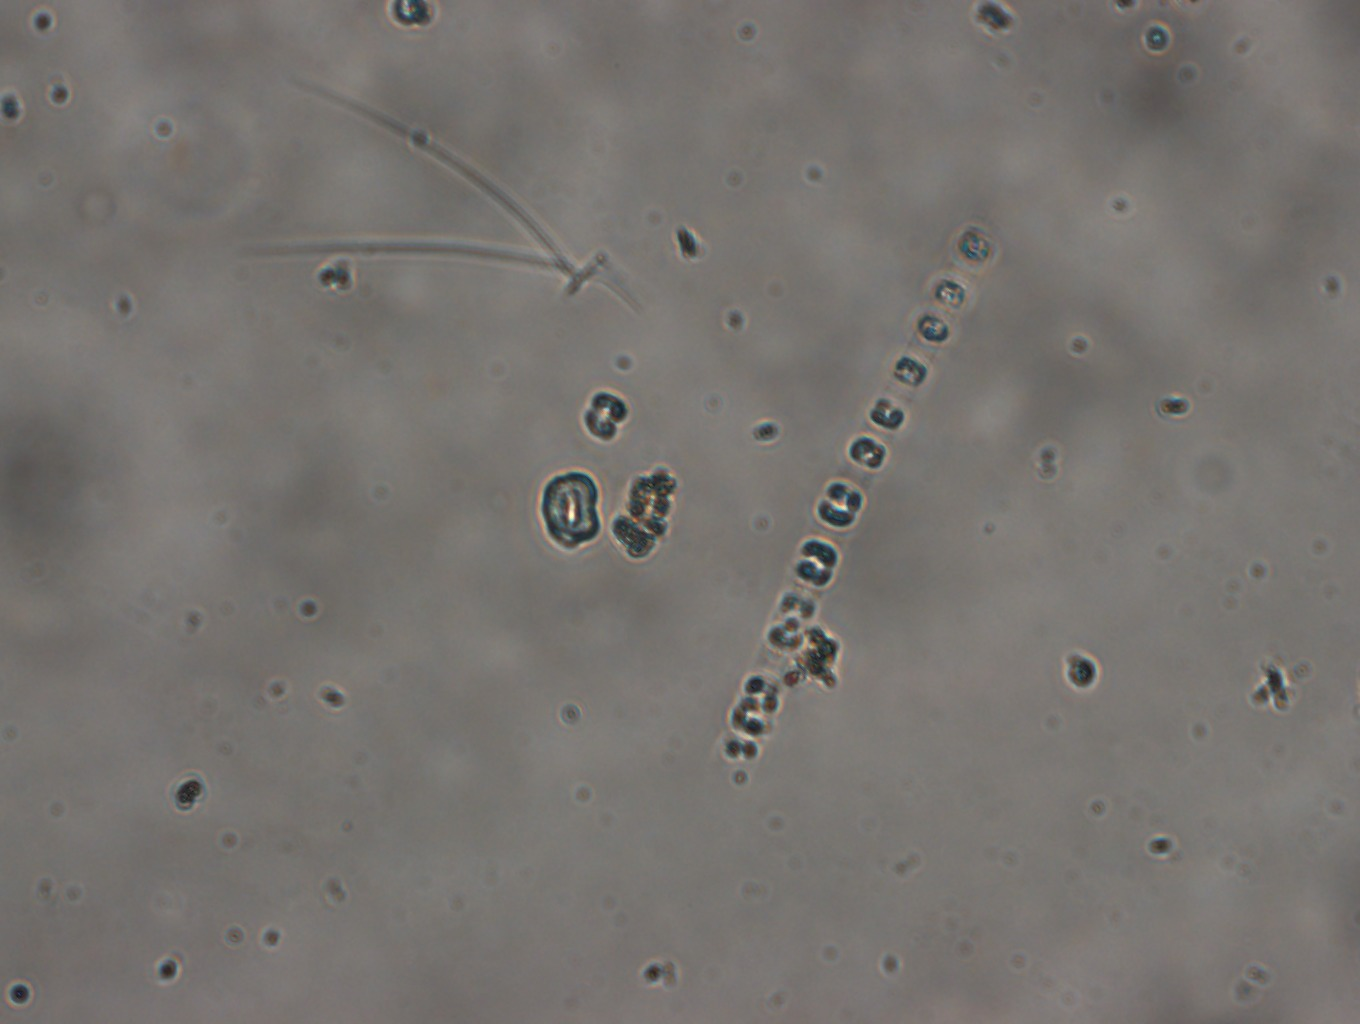chaetoceros: (276, 53, 649, 316)
skeletonema: (706, 215, 1010, 773)
